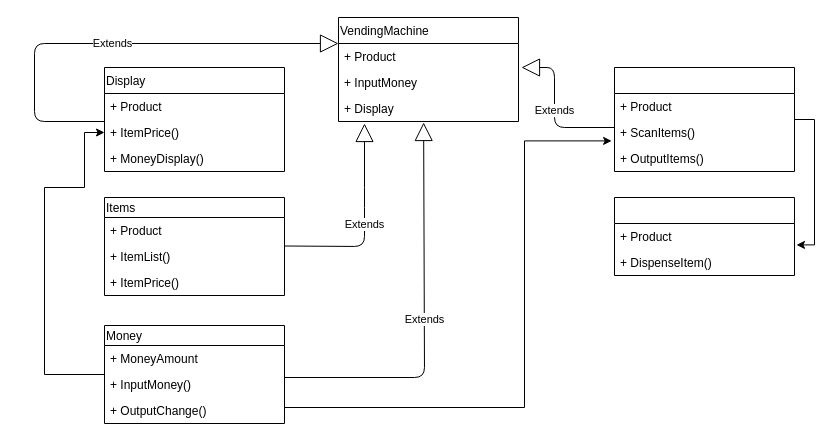
This 840x444 diagram has some shape labels left out. The box of each missing label's shape, as (x1, y1, x2, y2) in pixels:
ItemDispenser: (614, 196, 794, 276)
ItemSorter: (614, 66, 794, 172)
